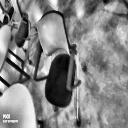chair_success: (33, 11, 87, 126), (10, 0, 38, 64)
